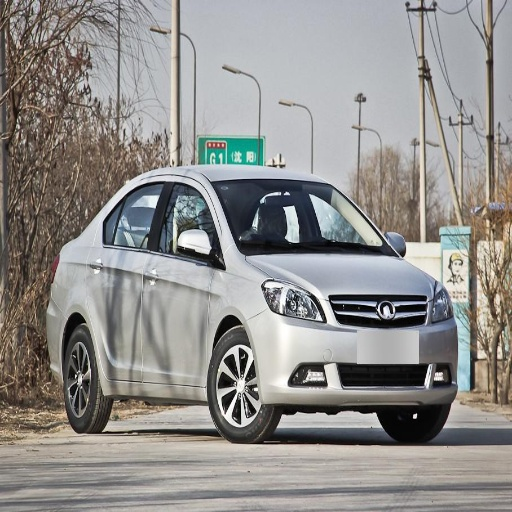front_bumper: (249, 288, 456, 405)
front_right_door: (137, 177, 220, 384)
front_right_light: (262, 280, 326, 325)
hood: (263, 252, 436, 297)
trunk: (50, 261, 90, 331)
